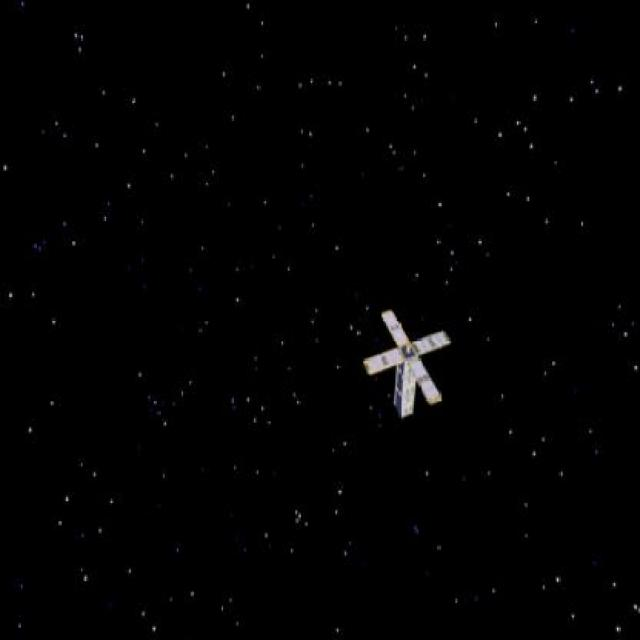satellite: (366, 298, 466, 419)
